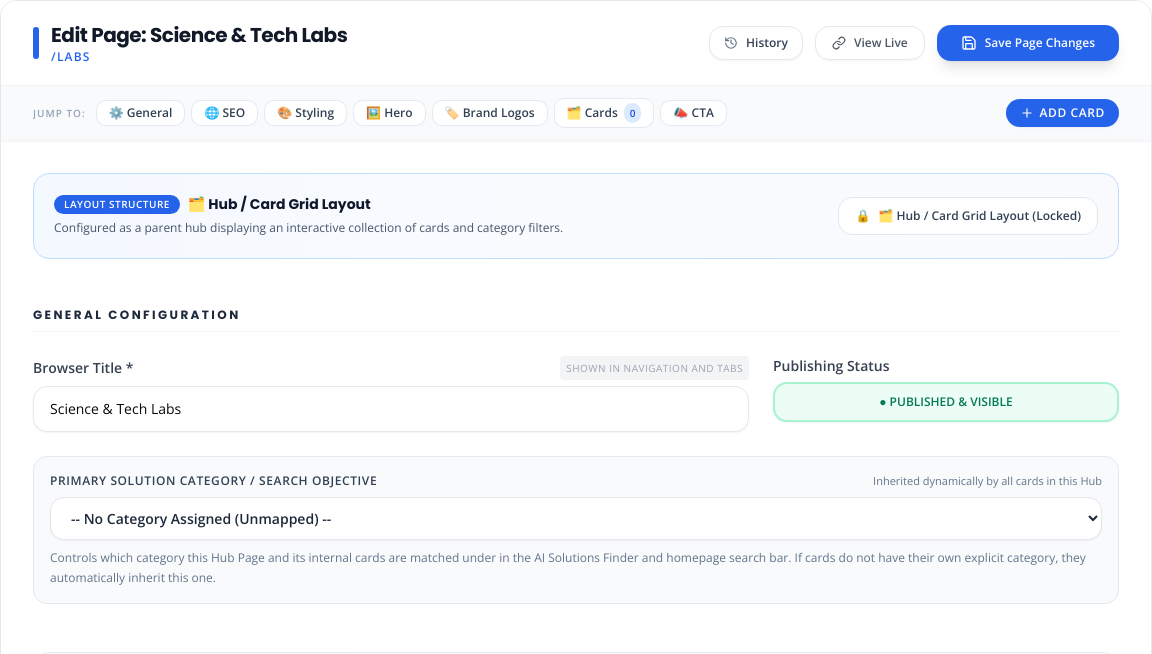
it: UnifiedPageEditor Page History (read-only activity log) › opens the History panel from the toolbar and lists changes without any restore option
This screenshot has width=1152, height=654.
Click the button "History".
click(756, 43)  # box x1=709 y1=26 x2=803 y2=60
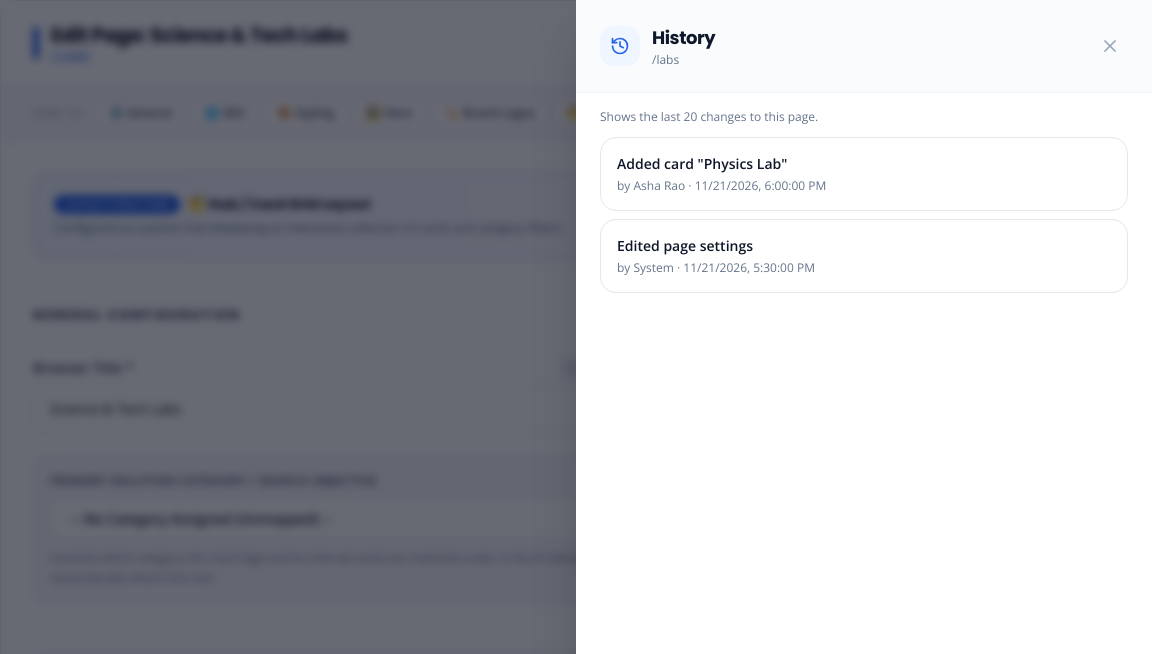
Expected: the text "Added card \"Physics Lab\"" is shown, x1=617 y1=154 x2=787 y2=173
Expected: the text "Edited page settings" is shown, x1=617 y1=236 x2=753 y2=255
Expected: the text "by Asha Rao · 11/21/2026, 6:00:00 PM" is shown, x1=617 y1=177 x2=826 y2=194
